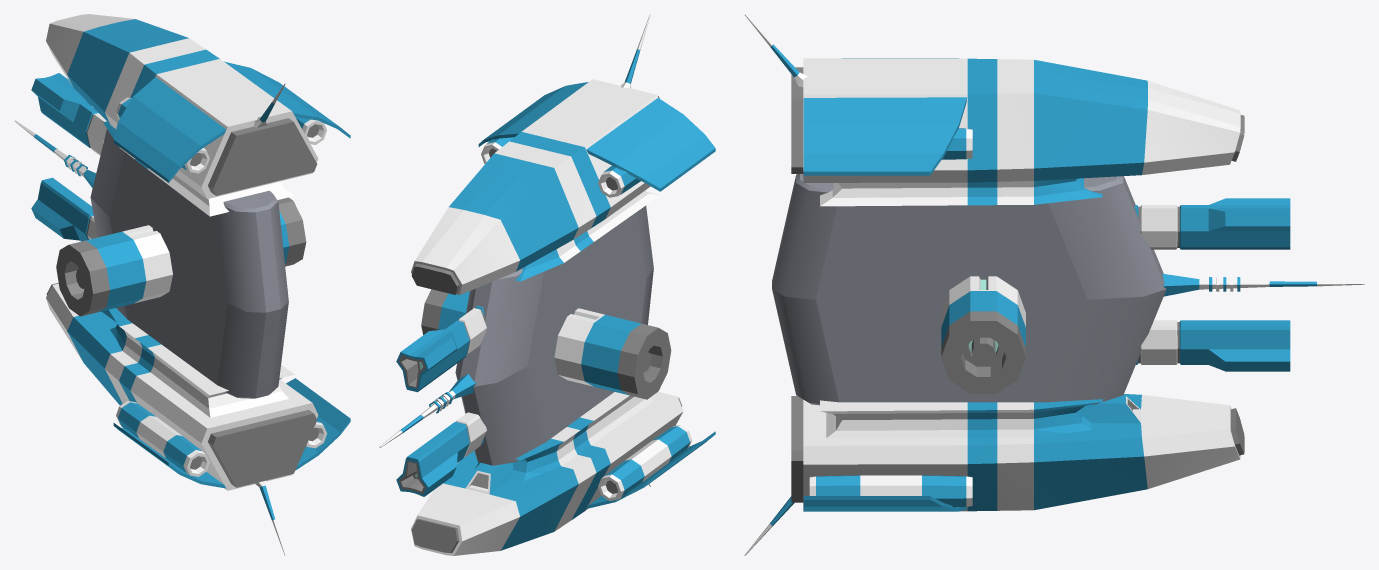
File: bigship.gltf
3 views of the same model, side by side, from view 1: azimuth 30°, elevation 25°; view 2: azimuth 150°, elevation 25°; view 3: azimuth 270°, elevation 25° (orthographic). The views are drawn at different scales.
Parts seen in each view (by area): view 1: bigship; view 2: bigship; view 3: bigship.
Boxes of the visible parts, <box> form: bigship: <box>14,14,350,555</box>; bigship: <box>379,14,715,555</box>; bigship: <box>744,14,1364,555</box>.
Bounding box in the file's own units: 2 × 4.24 × 4.39.
